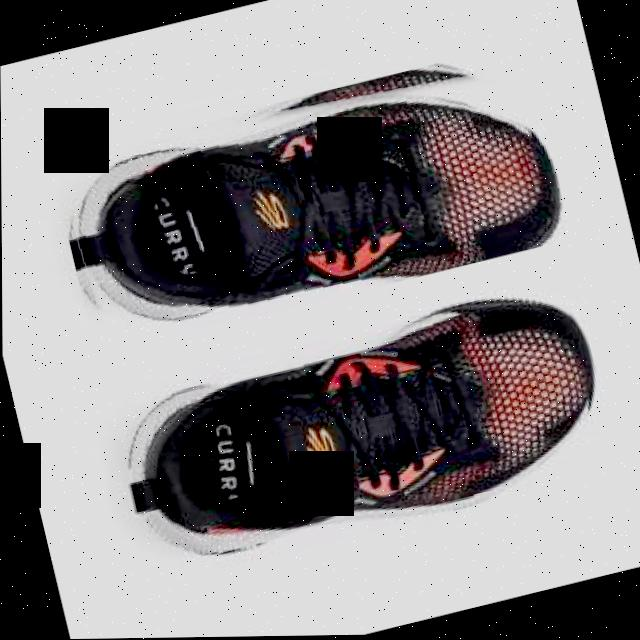shoe: (48, 44, 565, 355), (104, 280, 618, 587), (123, 295, 604, 559), (74, 87, 564, 325)
